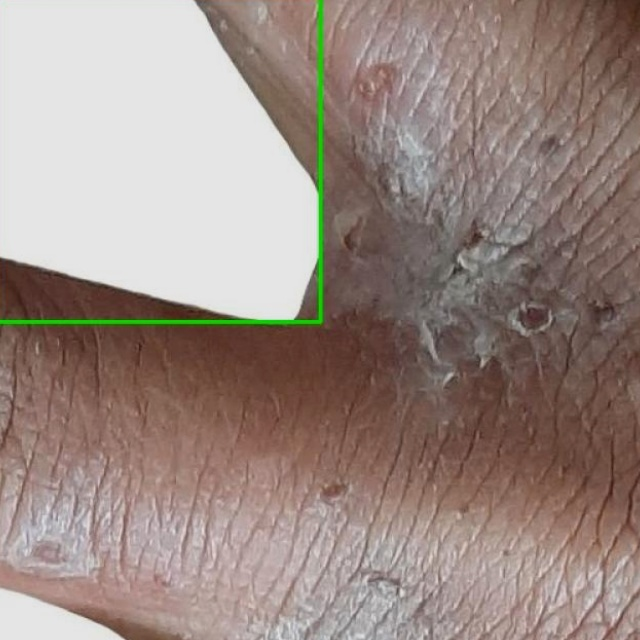Scabies: (0, 0, 320, 322)
